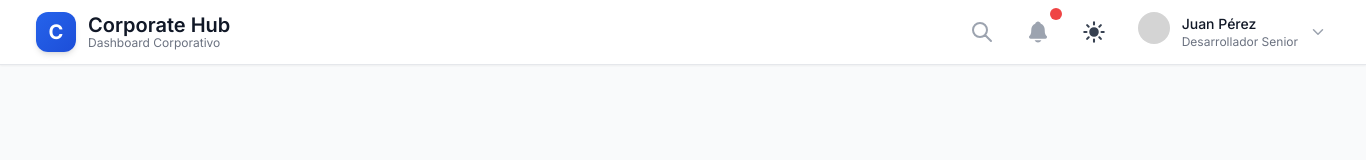
it: Header Expandable Search › closes search input when close button is clicked
Note: Open search
Click the button named "Abrir búsqueda".
click(982, 32)  # box x1=962 y1=12 x2=1002 y2=52
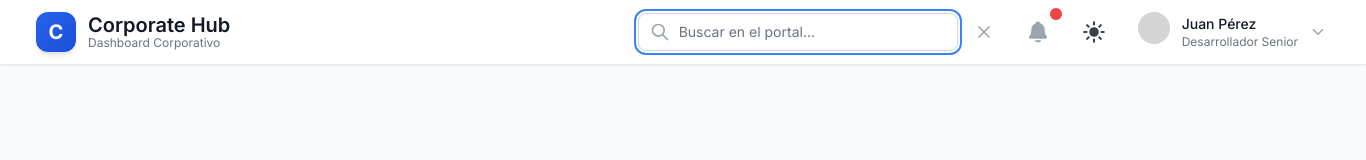
expect the search field named "Campo de búsqueda" is shown: met, box x1=638 y1=13 x2=958 y2=51
Note: Close search
Click the button named "Cerrar búsqueda".
click(984, 32)  # box x1=966 y1=14 x2=1002 y2=50
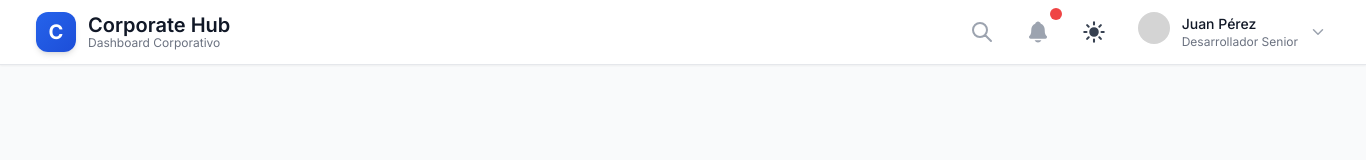
expect the button named "Abrir búsqueda" is shown: met, box x1=962 y1=12 x2=1002 y2=52
